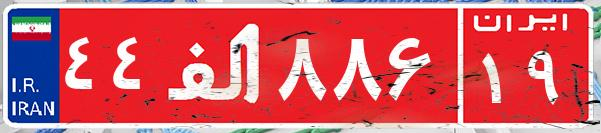1: (475, 38, 525, 113)
4: (57, 26, 110, 107), (110, 28, 158, 105)
6: (385, 28, 445, 110)
8: (273, 28, 330, 110), (330, 28, 385, 110)
9: (525, 38, 570, 115)
الف: (158, 15, 273, 115)
